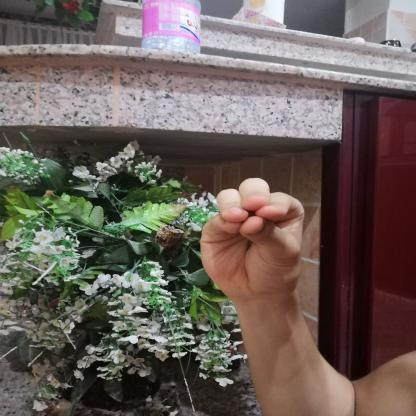HA: (181, 164, 320, 312)
